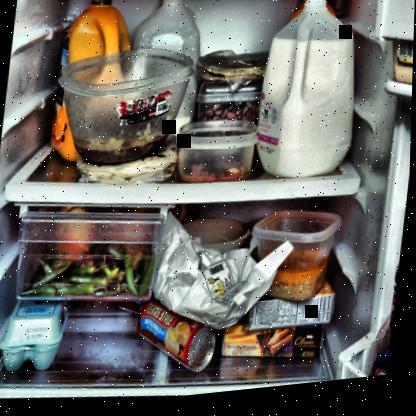eggs: (4, 300, 64, 375)
green_chillies: (32, 263, 73, 290), (123, 255, 144, 300), (57, 283, 100, 302), (140, 255, 157, 300), (72, 274, 112, 293), (22, 284, 57, 300), (104, 249, 128, 271), (75, 264, 102, 279)
